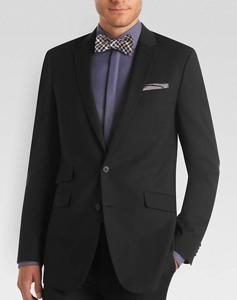F_M_suit jacket: (18, 31, 224, 285)
F_pocket square: (137, 79, 174, 96)
